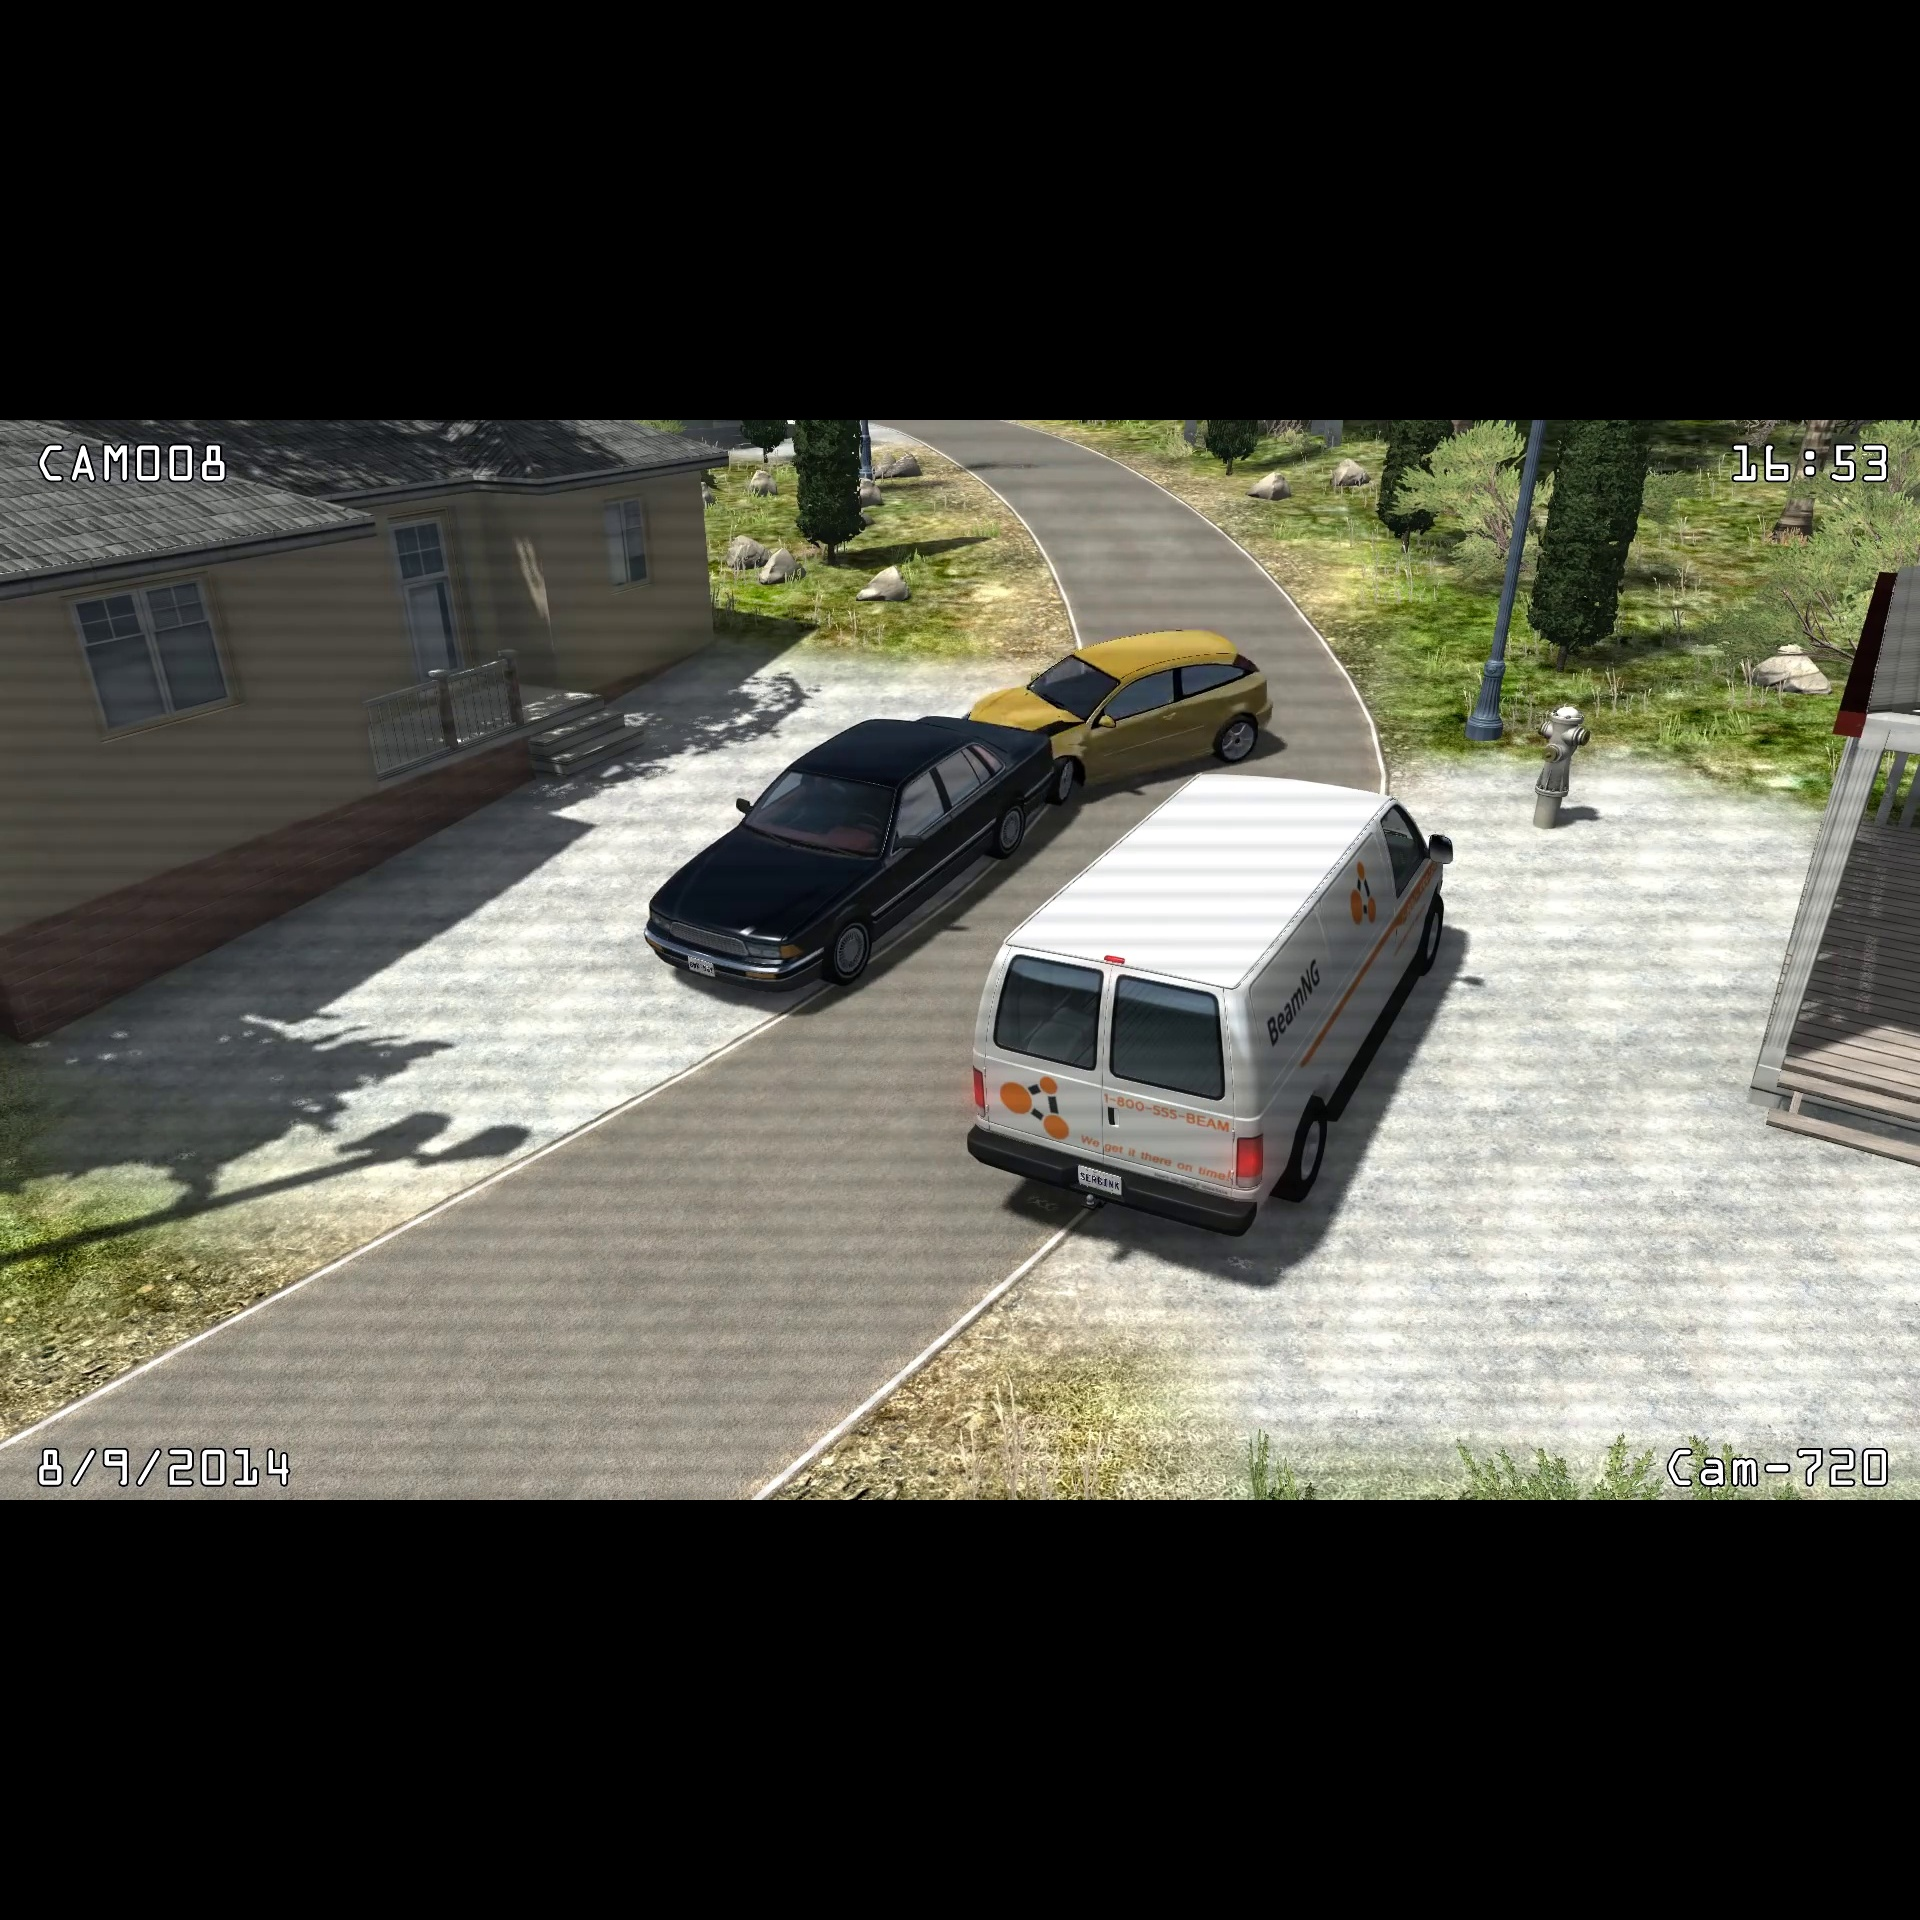vehicle: (962, 761, 1468, 1241), (636, 707, 1060, 1006), (1009, 622, 1282, 802)
